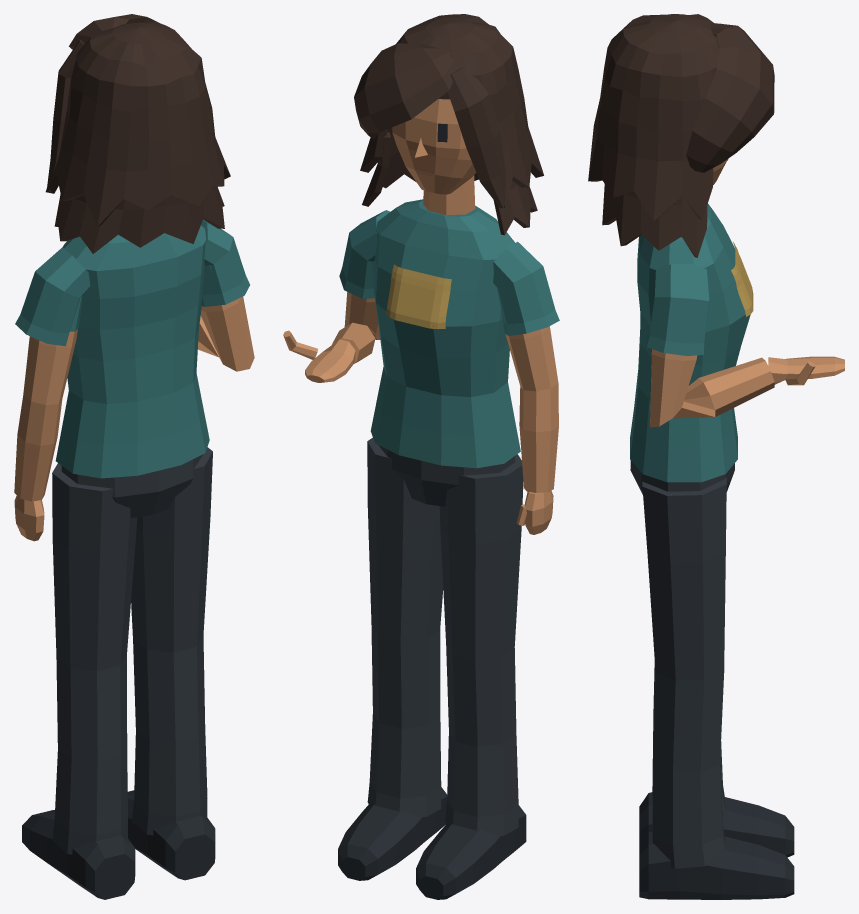
File: lwf_attendee_female_food_hold_v2.glb
The picture shows the model from 3 angles, left to right: view 1: azimuth 30°, elevation 25°; view 2: azimuth 150°, elevation 25°; view 3: azimuth 270°, elevation 25°; orthographic projection. The views are drawn at different scales.
Parts seen in each view (by area): view 1: Attendee_female_food_hold_v6; view 2: Attendee_female_food_hold_v6; view 3: Attendee_female_food_hold_v6.
Part boxes in pixels (x1,y1,x2,y2): Attendee_female_food_hold_v6: (14, 14, 254, 899); Attendee_female_food_hold_v6: (283, 14, 559, 899); Attendee_female_food_hold_v6: (588, 14, 844, 899).
Bounding box in the file's own units: 0.4653 × 1.7 × 0.4632.
1 material, 1 textured.
